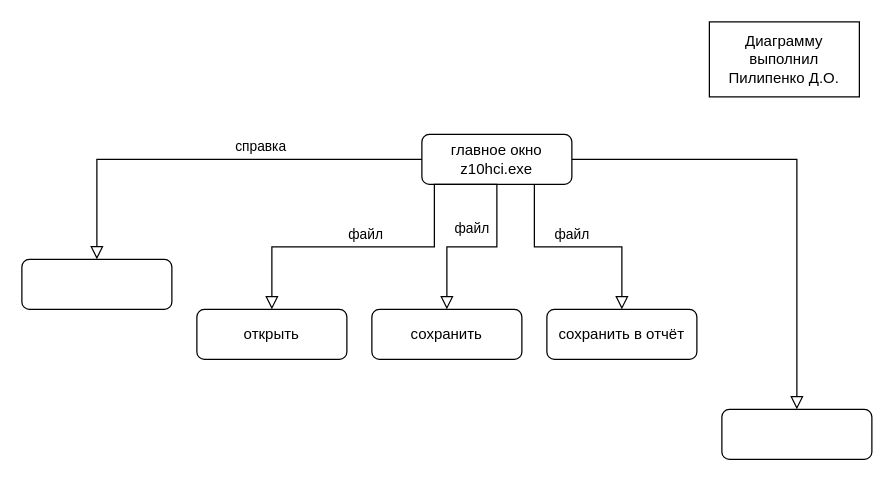
Image size: 894x481. Some labels were removed from this diagram. The centre of each missing label's shape, as x and y in pixels:
"выход" belongs at [796,433].
"окно справки" belongs at [96,283].
